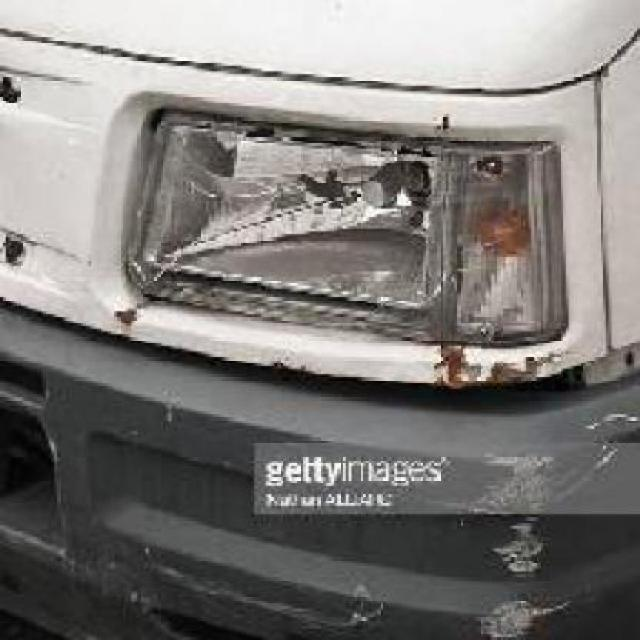damaged-head-light: (138, 100, 576, 342)
